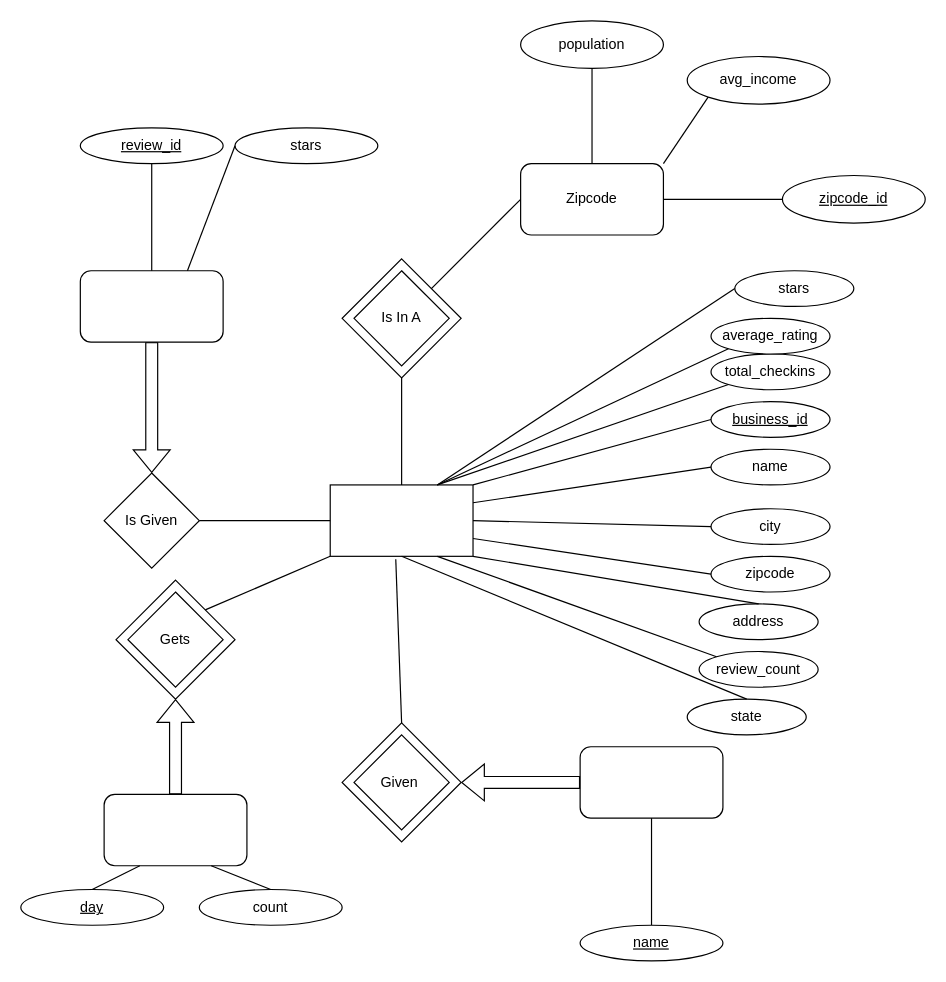
This 946x982 diagram has some shape labels left out. Here are the shapes that lost their labels. From the top down, the box of each, then its label:
(79, 270, 223, 342): Review
(329, 484, 473, 556): Business
(579, 746, 723, 818): Categories
(103, 793, 247, 866): Check ins
